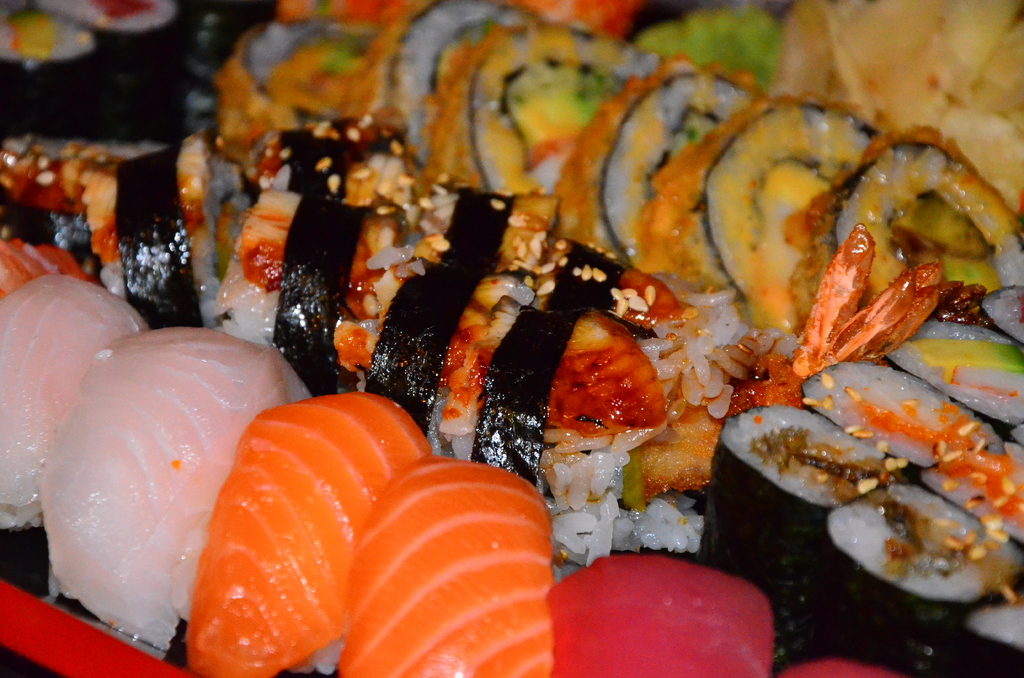sushi: (0, 0, 1023, 677), (76, 134, 254, 330)
